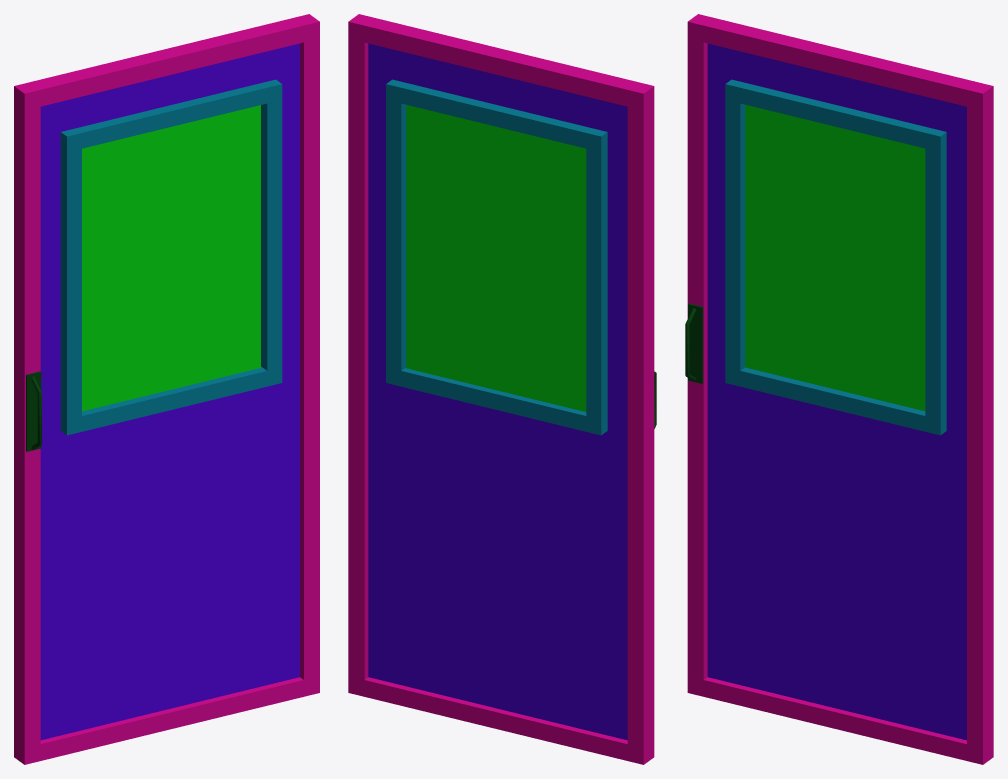
The model's file is tight_door2.fbx.
The picture shows the model from 3 angles, left to right: view 1: azimuth 30°, elevation 25°; view 2: azimuth 150°, elevation 25°; view 3: azimuth 330°, elevation 25°; orthographic projection.
Parts seen in each view (by area): view 1: Box003; view 2: Box003; view 3: Box003.
Part boxes in pixels (box(x1,y1,x2,y2)): Box003: box(14, 14, 319, 764); Box003: box(348, 14, 656, 764); Box003: box(685, 14, 993, 764).
Bounding box in the file's own units: 11.89 × 25.81 × 1.51.
